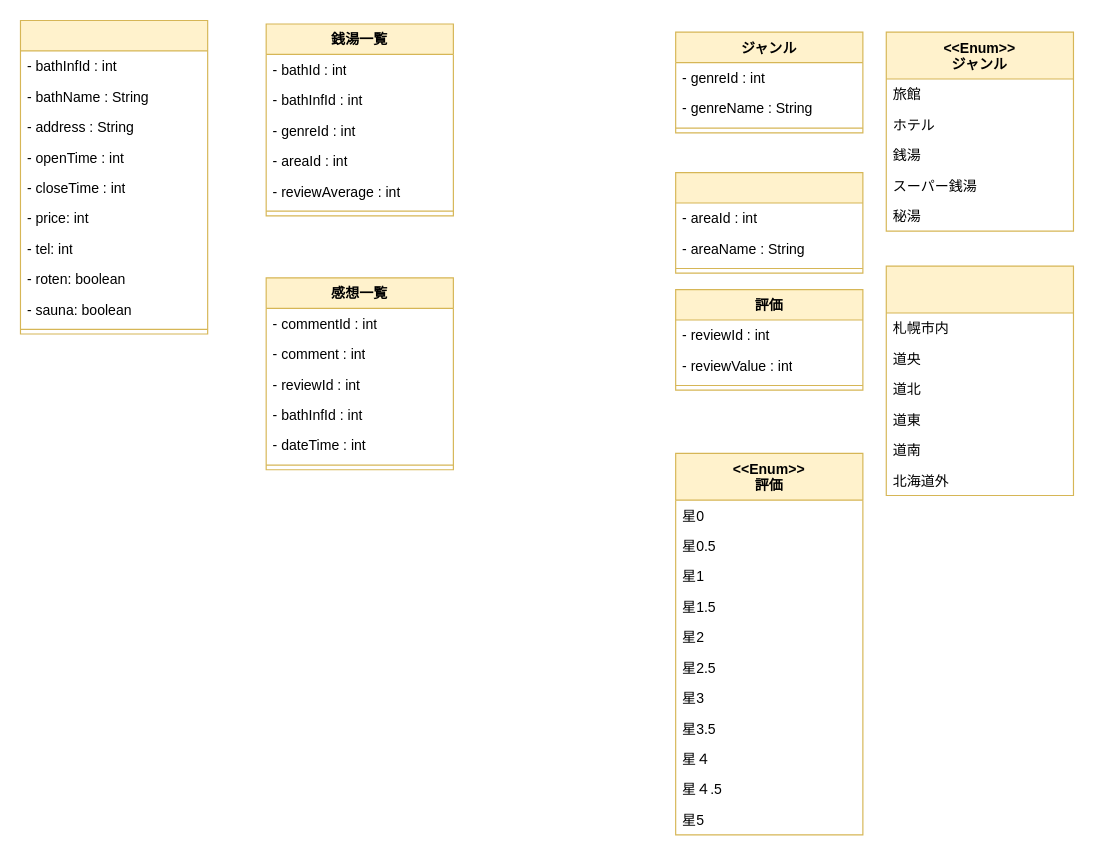
Image size: 1094x859. Some labels were removed from this diagram. Here are the shapes that lost their labels. From the top down, the box of each, then its label:
(19, 19, 208, 334): 銭湯情報
(675, 171, 863, 273): 地域
(885, 265, 1073, 495): <<Enum>> 地域
